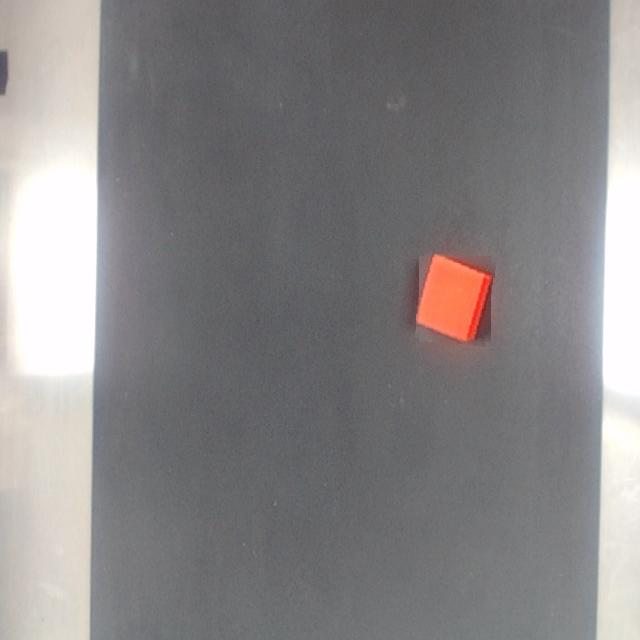Rojo: (417, 255, 494, 343)
